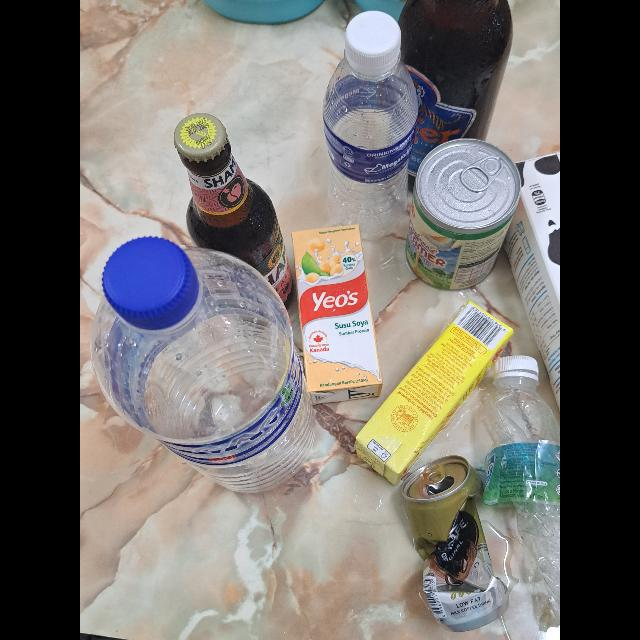aba de lata: (463, 150, 501, 193), (420, 458, 446, 488)
caixinha: (358, 300, 512, 478), (292, 222, 388, 410), (516, 148, 560, 412)
garrafa de vidro: (391, 0, 519, 184), (182, 112, 296, 318)
garrafa plástica: (93, 255, 310, 498), (476, 378, 560, 630), (326, 66, 414, 250)
lata: (398, 458, 504, 630), (408, 140, 526, 286)
tampa plástica: (106, 238, 196, 326), (344, 15, 400, 69), (493, 351, 542, 379)
